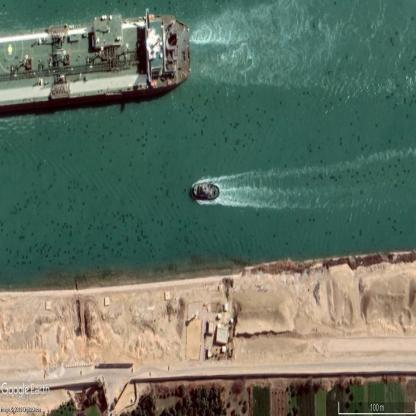ship: (0, 18, 189, 105), (192, 181, 221, 201)
